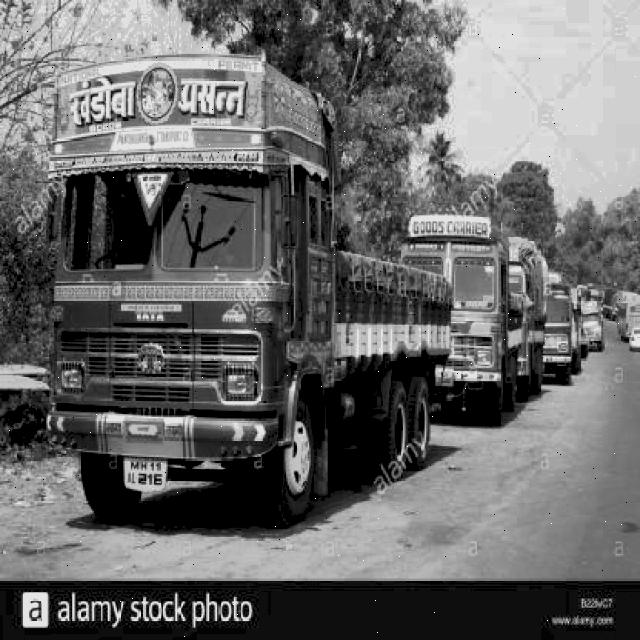HCV: (43, 63, 417, 562), (395, 220, 514, 399), (495, 265, 551, 399), (543, 277, 574, 393), (586, 282, 605, 370)
